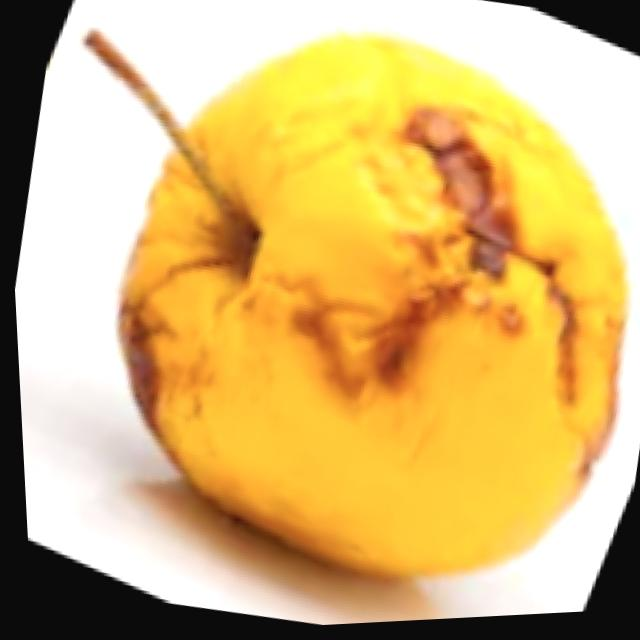organik: (29, 0, 640, 576)
